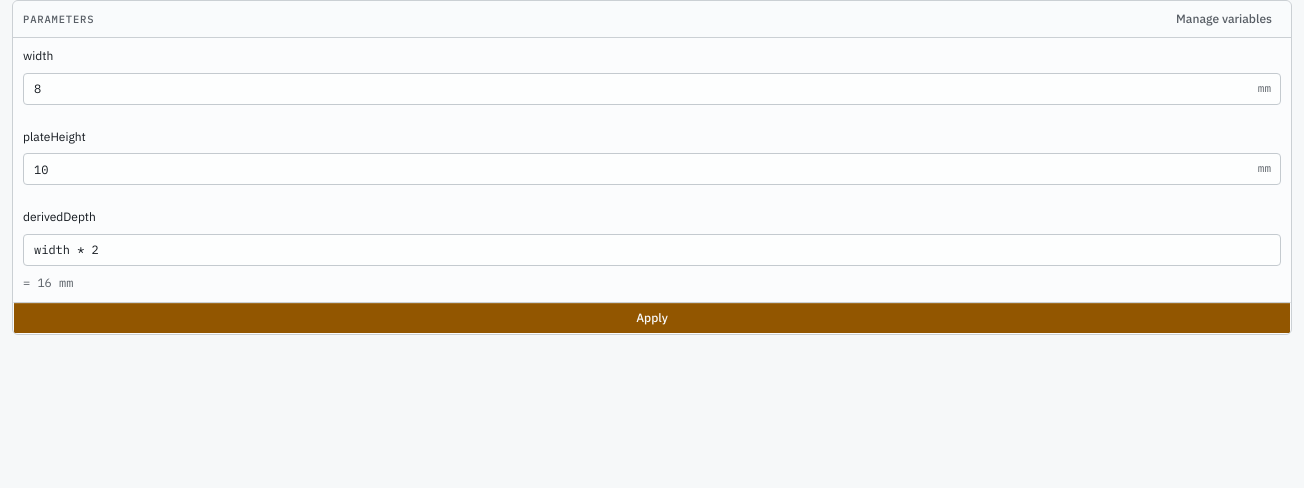
Test: CadParameterPanel manage mode › swaps the edit form for the manager and back
expect the number field labelled "width" is shown: met, box [23, 72, 1281, 104]
expect the text "New variable" is not shown: met
What coordinates should you click on to do the following:
click the button "Manage variables"
I would click on:
 (1224, 19)
Its box is [1167, 7, 1281, 31].
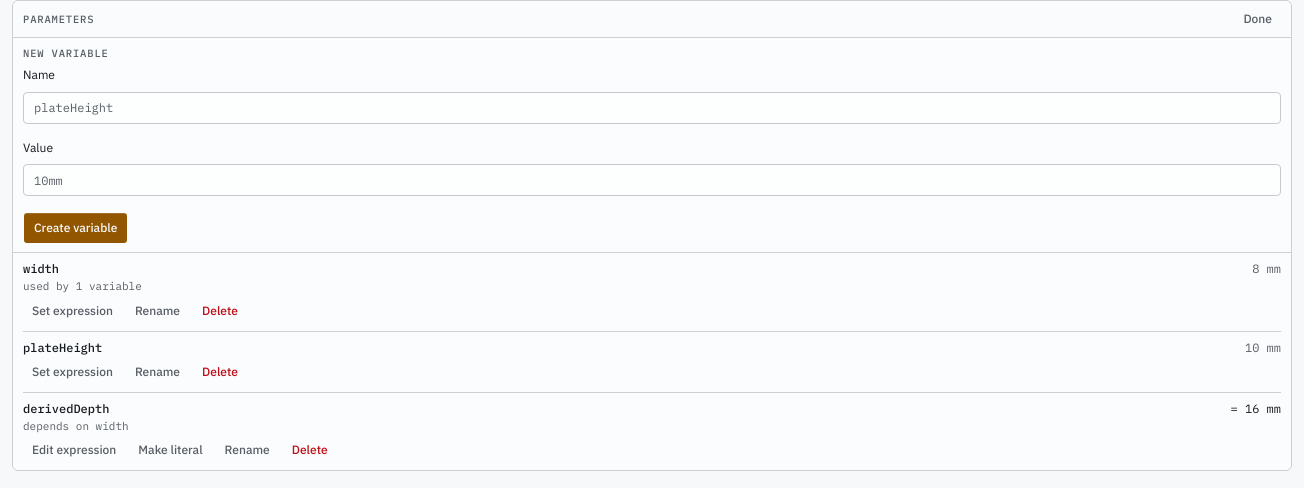
expect the text "derivedDepth" is shown: met, box [23, 401, 109, 417]
expect the heading "New variable" is shown: met, box [23, 46, 109, 60]
expect the field labelled "Name" is shown: met, box [23, 92, 1281, 124]
What coordinates should you click on to do the following:
click the button "Done"
I would click on:
 (1258, 19)
Its box is [1234, 7, 1281, 31].
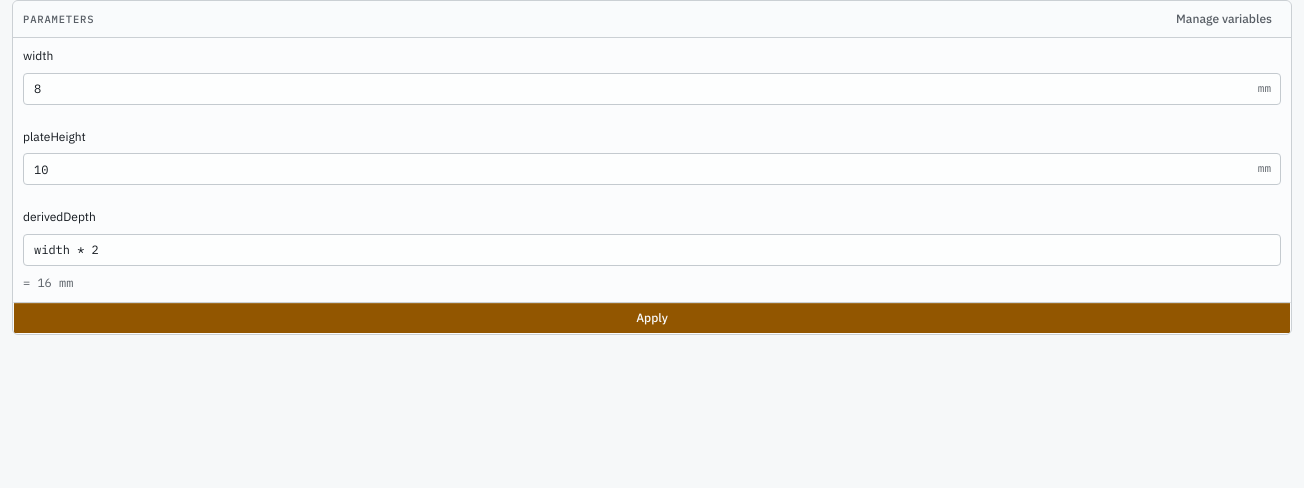
expect the number field labelled "width" is shown: met, box [23, 72, 1281, 104]
expect the heading "New variable" is gone: met
